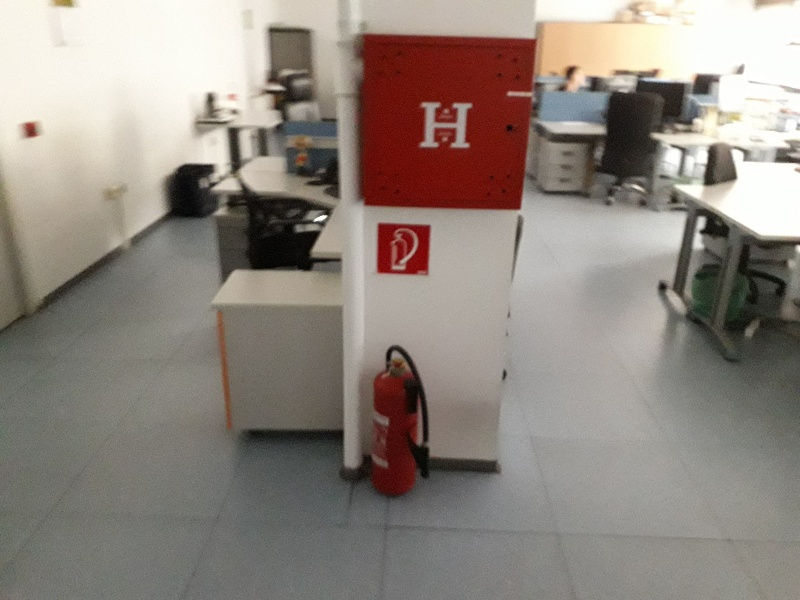vataparat: (368, 348, 431, 495)
